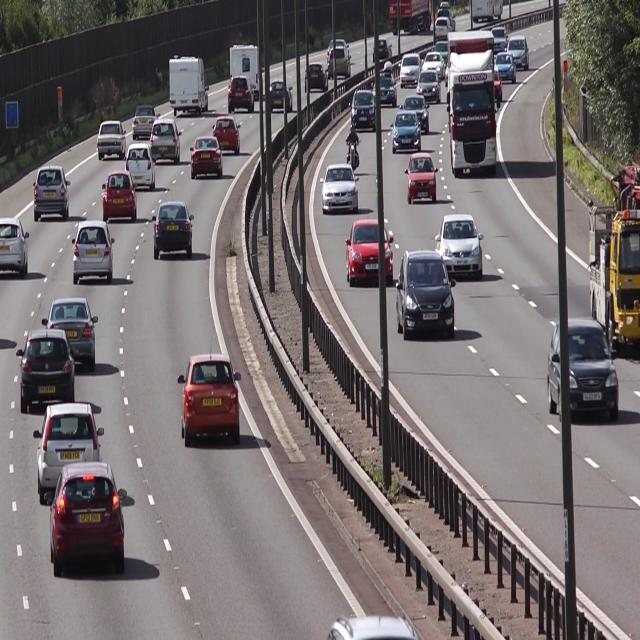Car: (50, 469, 128, 572), (175, 340, 242, 455), (32, 400, 102, 501), (16, 330, 76, 412), (43, 294, 100, 372), (71, 220, 115, 288), (169, 51, 213, 118), (151, 200, 195, 262), (33, 165, 70, 222), (0, 216, 30, 276), (124, 139, 158, 191), (149, 116, 186, 160), (189, 133, 224, 177), (212, 114, 242, 155), (97, 119, 126, 161), (227, 74, 256, 114), (132, 103, 162, 137)
